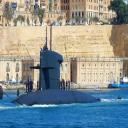submarine: (11, 54, 99, 106)
